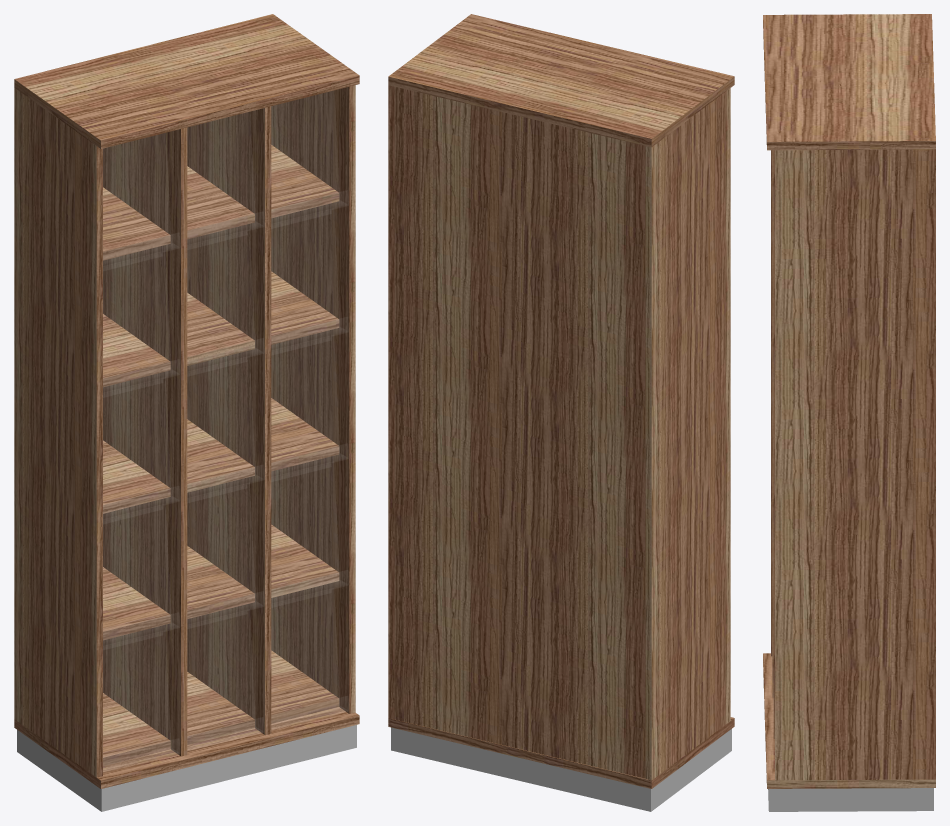
Rendered from baseline_5OH_45x80_brochure_cabinet_finala.fbx.
3 renders of one model, left to right at view 1: azimuth 30°, elevation 25°; view 2: azimuth 150°, elevation 25°; view 3: azimuth 270°, elevation 25°, orthographic.
Parts seen in each view (by area): view 1: drewno_mesh, szklo_mesh, metal_mesh, movable_02_mesh, movable_01_mesh, movable_03_mesh, movable_04_mesh; view 2: drewno_mesh, metal_mesh; view 3: drewno_mesh, metal_mesh.
Part boxes in pixels (x1=…): drewno_mesh: x1=14, y1=14, x2=359, y2=788; szklo_mesh: x1=103, y1=192, x2=347, y2=771; metal_mesh: x1=17, y1=725, x2=356, y2=811; movable_02_mesh: x1=103, y1=506, x2=178, y2=645; movable_01_mesh: x1=272, y1=211, x2=346, y2=349; movable_03_mesh: x1=272, y1=590, x2=346, y2=728; movable_04_mesh: x1=103, y1=235, x2=178, y2=265; drewno_mesh: x1=388, y1=14, x2=734, y2=788; metal_mesh: x1=391, y1=727, x2=731, y2=811; drewno_mesh: x1=763, y1=14, x2=935, y2=788; metal_mesh: x1=768, y1=788, x2=933, y2=811.
Bounding box in the file's own units: 80.59 × 197 × 46.06.
